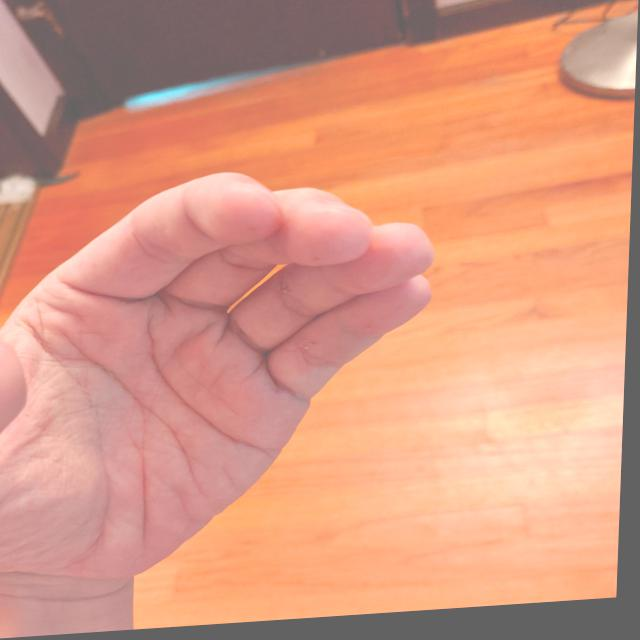C: (0, 148, 447, 612)
